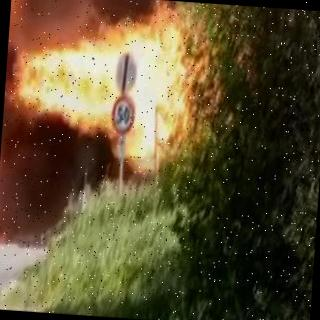smoke: (0, 115, 130, 262), (40, 0, 249, 18)
